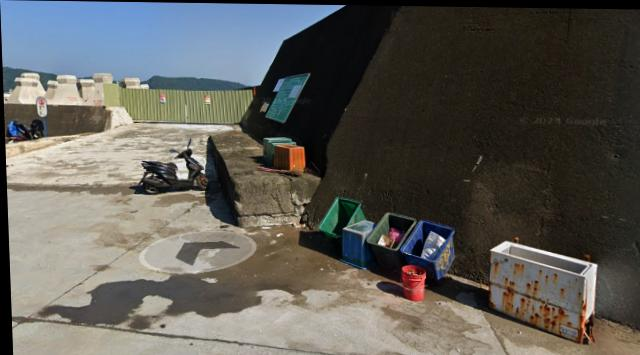pollute: (310, 192, 460, 301), (481, 235, 600, 347), (260, 132, 311, 175)
